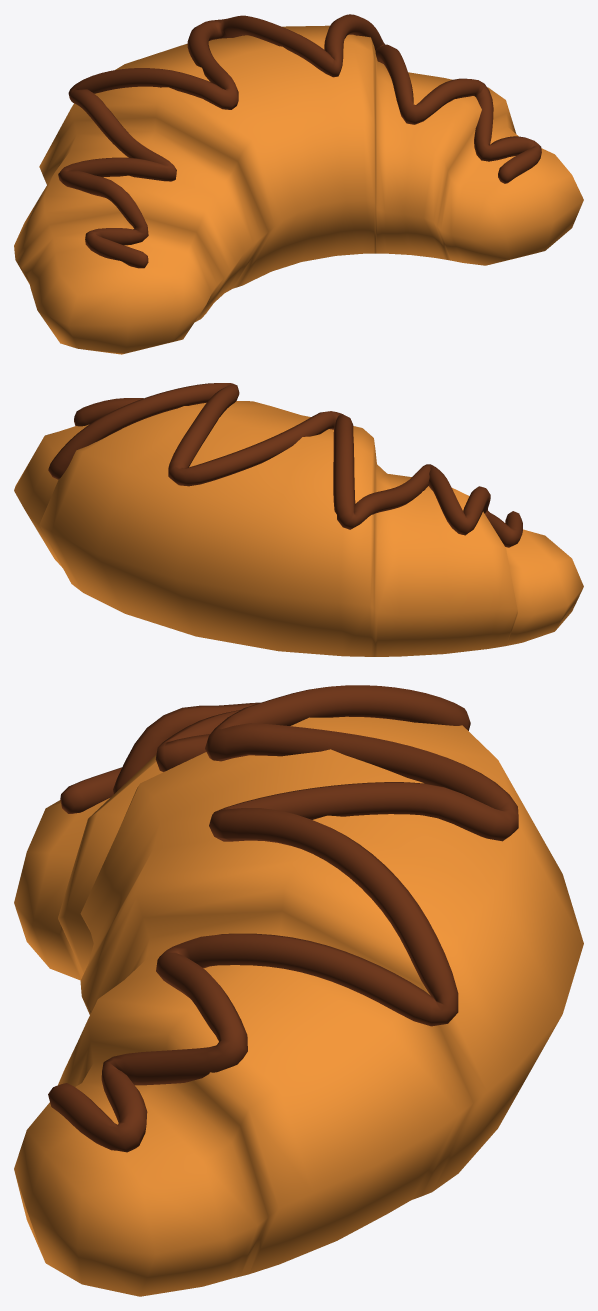
File: SM_croissant.fbx
The picture shows the model from 3 angles, top to bottom: view 1: azimuth 30°, elevation 25°; view 2: azimuth 150°, elevation 25°; view 3: azimuth 270°, elevation 25°; orthographic projection. The views are drawn at different scales.
Visible parts, largest first — view 1: SM_croissant; view 2: SM_croissant; view 3: SM_croissant.
Part boxes in pixels (<box>): SM_croissant: <box>14,14,583,354</box>; SM_croissant: <box>14,383,583,656</box>; SM_croissant: <box>14,685,583,1296</box>.
Bounding box in the file's own units: 25.35 × 9.83 × 13.96.
Materials: 1 (1 with a texture image).
